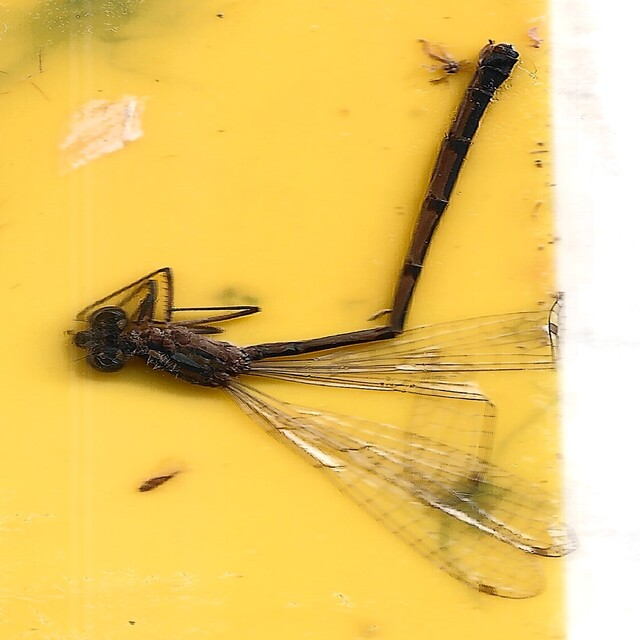Nematocera: (419, 50, 475, 82)
Odonata: (63, 42, 577, 598)
Trichoptera: (137, 469, 182, 495)
